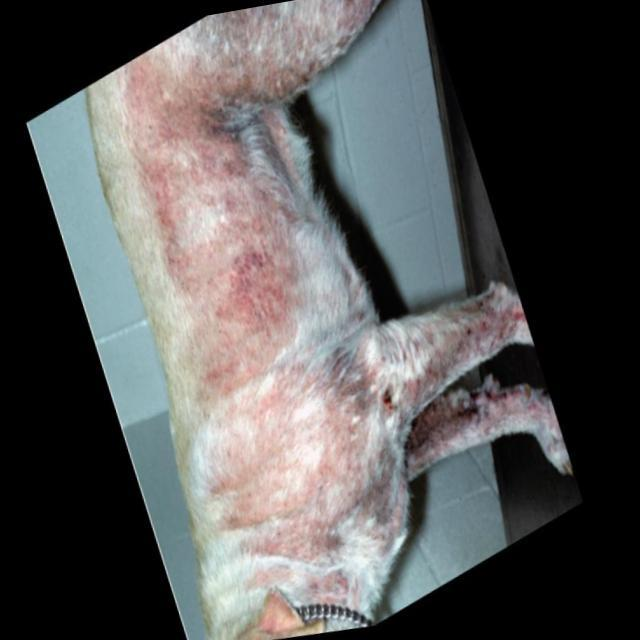allergic dermatitis: (205, 354, 373, 578), (162, 187, 302, 394), (131, 57, 259, 216)
